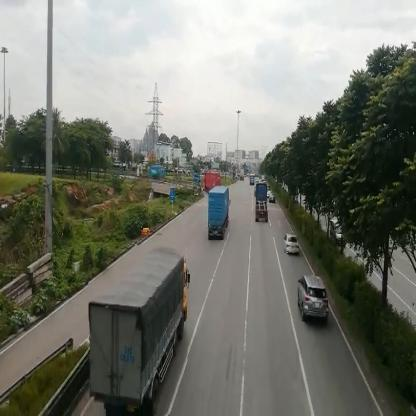car: (299, 277, 330, 324), (285, 234, 300, 255), (271, 193, 276, 202)
container: (209, 185, 232, 242), (255, 186, 268, 224), (138, 166, 166, 178), (204, 173, 221, 191)
truck: (89, 246, 188, 416)
